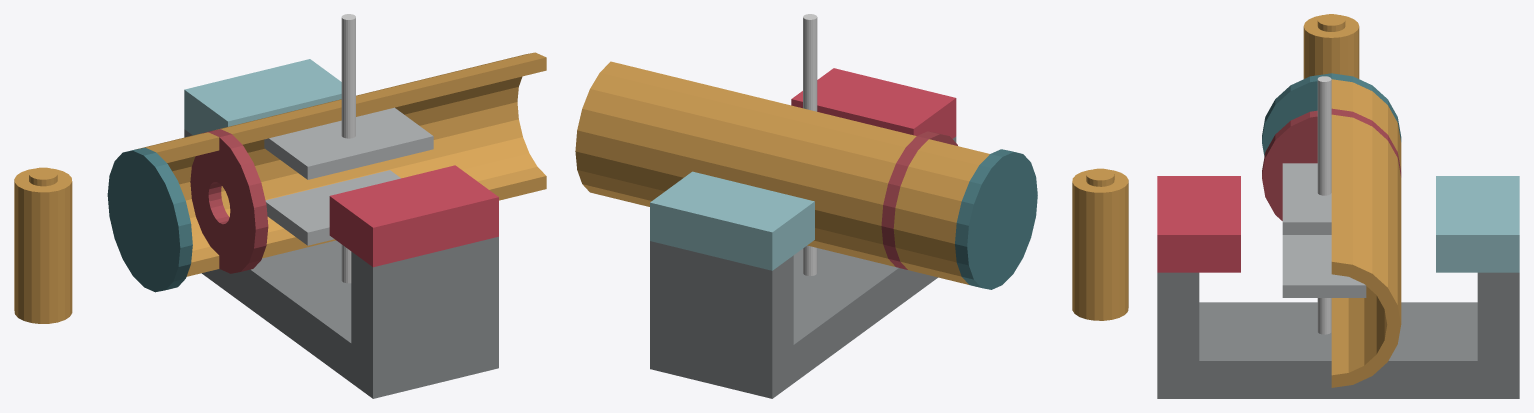
File: thompson.glb
The picture shows the model from 3 angles, left to right: view 1: azimuth 30°, elevation 25°; view 2: azimuth 150°, elevation 25°; view 3: azimuth 270°, elevation 25°; orthographic projection. The views are drawn at different scales.
Parts seen in each view (by area): view 1: Mesh_Mesh_head_geo.001_lambert2SG.001; view 2: Mesh_Mesh_head_geo.001_lambert2SG.001; view 3: Mesh_Mesh_head_geo.001_lambert2SG.001.
Boxes of the visible parts, box(x1,y1,x2,y2) form: Mesh_Mesh_head_geo.001_lambert2SG.001: box(14, 14, 546, 398); Mesh_Mesh_head_geo.001_lambert2SG.001: box(575, 14, 1128, 398); Mesh_Mesh_head_geo.001_lambert2SG.001: box(1157, 14, 1519, 398).
Bounding box in the file's own units: 84 × 46 × 52.
